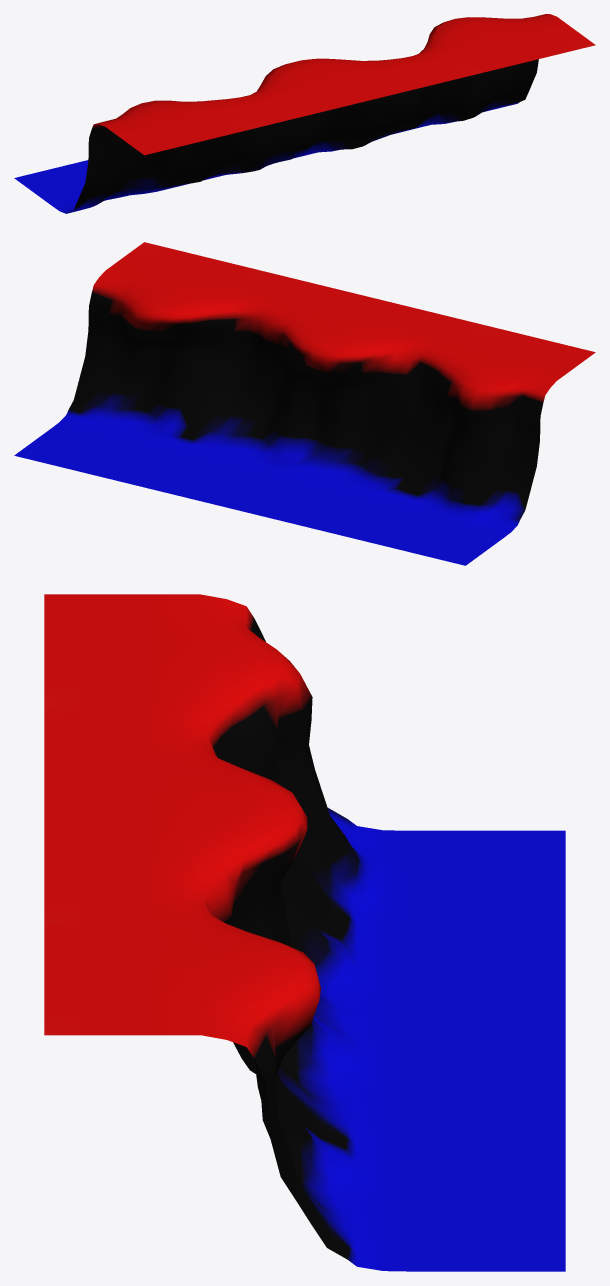
Rendered from RiveCliff02B Foreground.fbx.
The picture shows the model from 3 angles, top to bottom: view 1: azimuth 30°, elevation 25°; view 2: azimuth 150°, elevation 25°; view 3: azimuth 270°, elevation 25°; orthographic projection. The views are drawn at different scales.
Visible parts, largest first — view 1: RiveCliff02B Foreground; view 2: RiveCliff02B Foreground; view 3: RiveCliff02B Foreground.
Part boxes in pixels (left/top/right/bottom): RiveCliff02B Foreground: left=14, top=14, right=595, bottom=213; RiveCliff02B Foreground: left=14, top=242, right=595, bottom=565; RiveCliff02B Foreground: left=44, top=594, right=565, bottom=1271.
Bounding box in the file's own units: 4 × 1 × 2.
